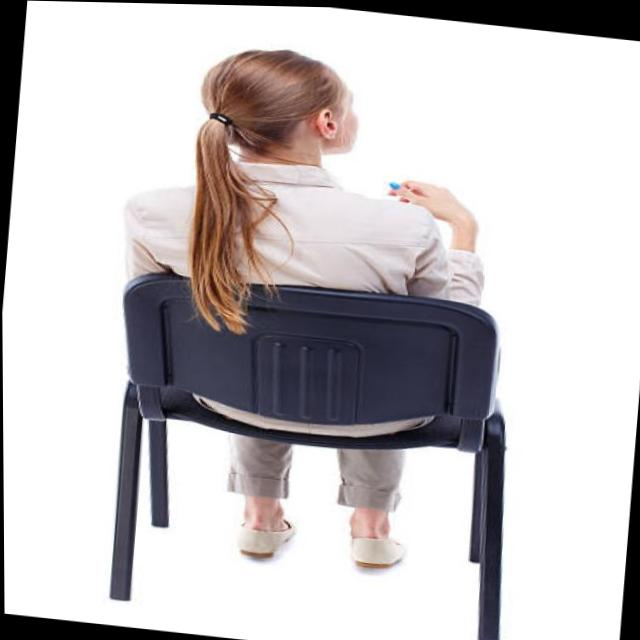no helmet: (188, 36, 368, 170)
